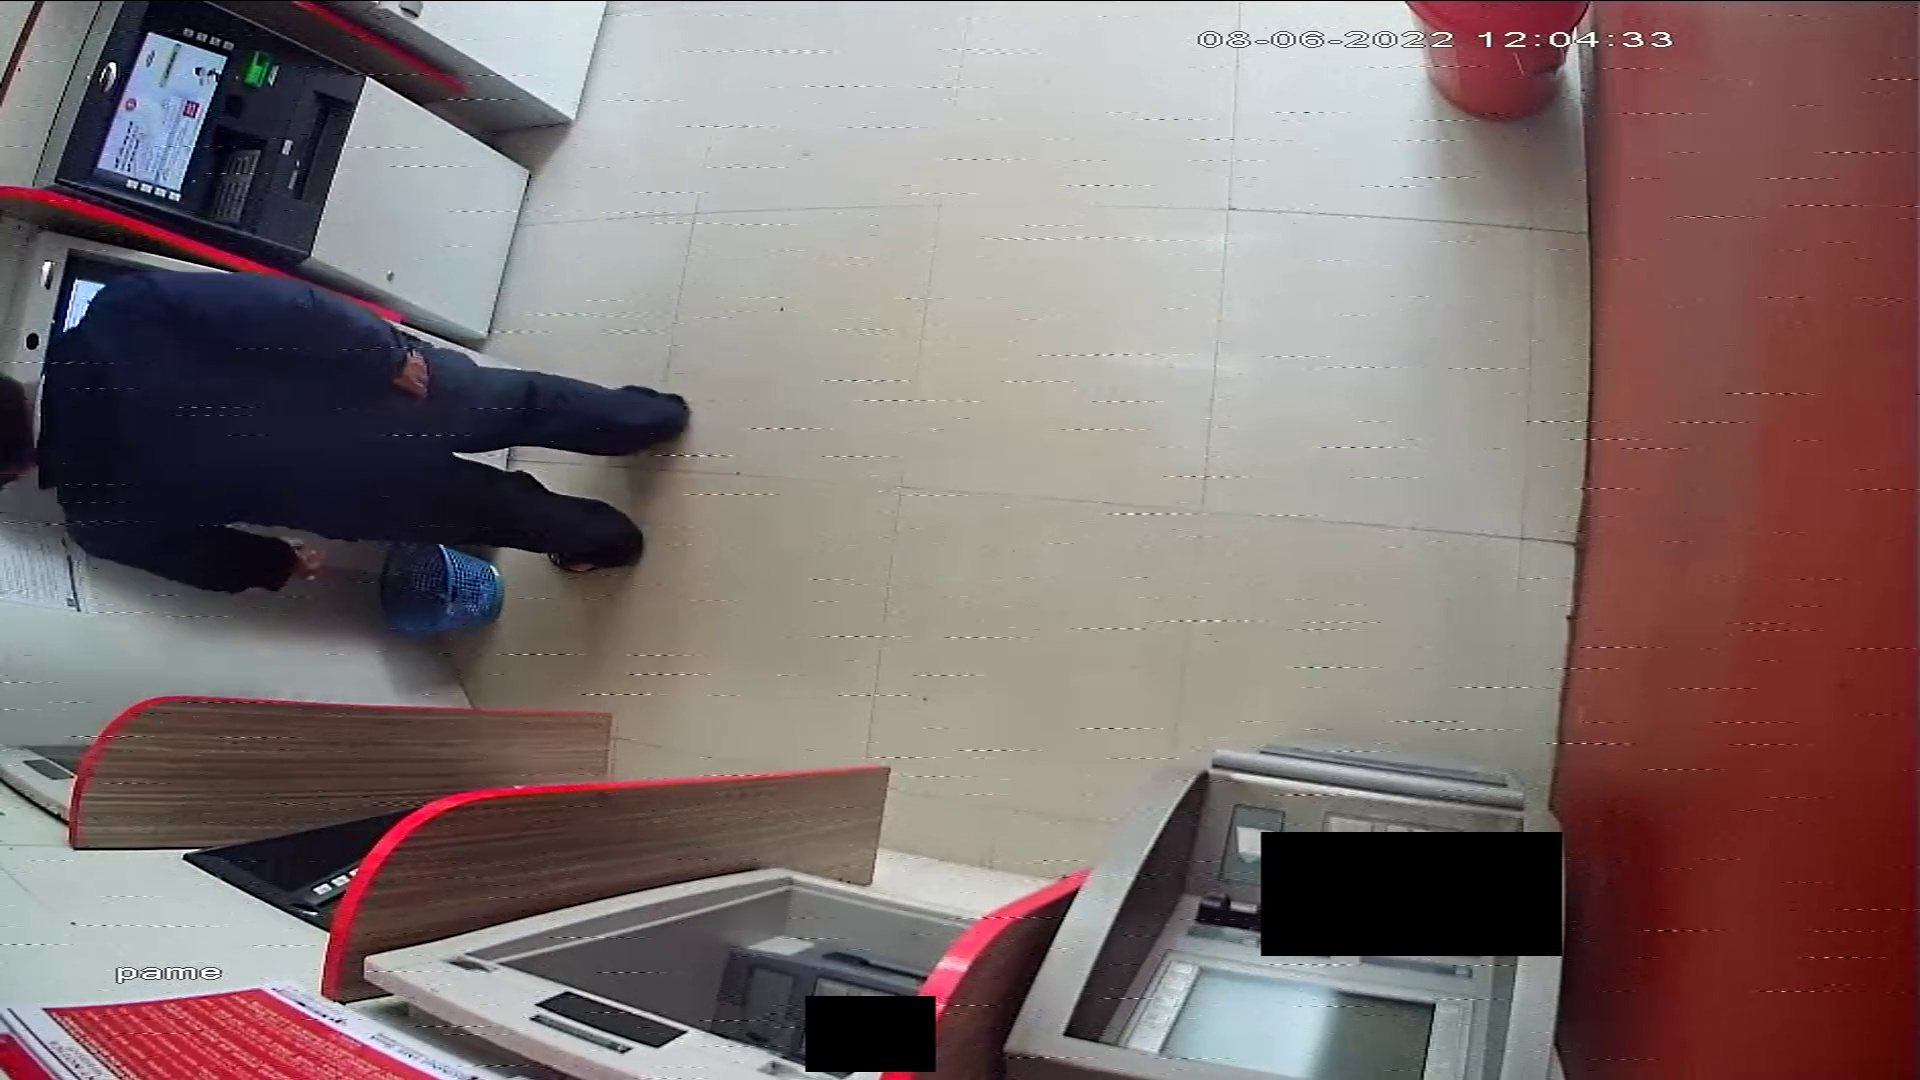person: (1, 269, 692, 596)
